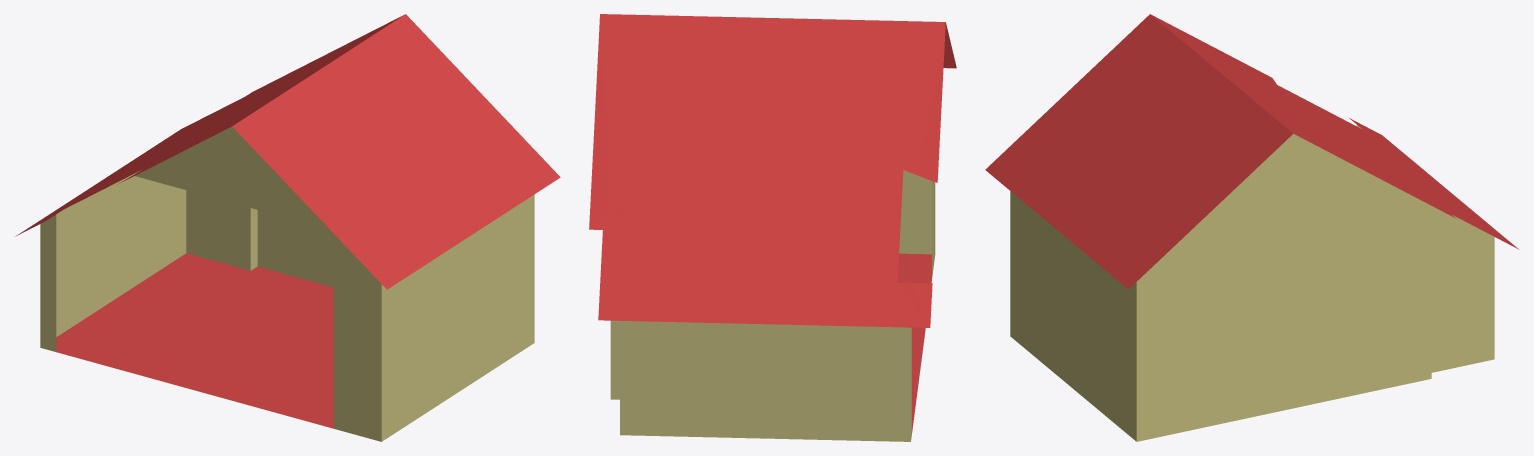
The picture shows the model from 3 angles, left to right: view 1: azimuth 30°, elevation 25°; view 2: azimuth 150°, elevation 25°; view 3: azimuth 270°, elevation 25°; orthographic projection. The views are drawn at different scales.
Bounding box in the file's own units: 19.33 × 21.35 × 12.49.
